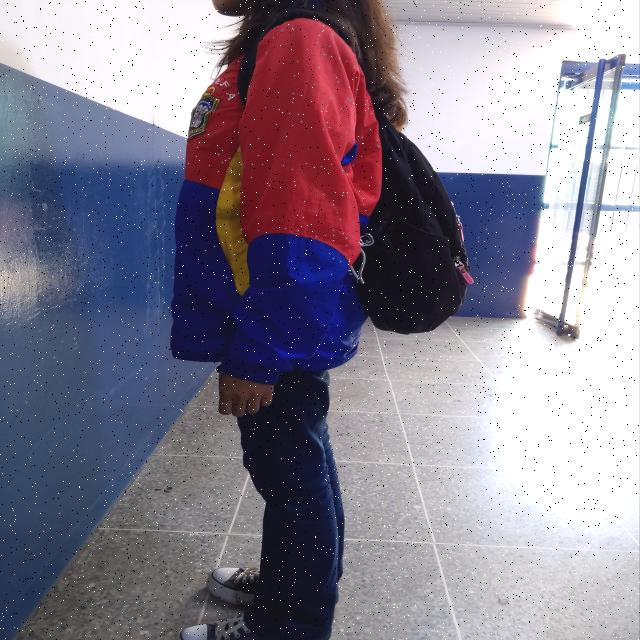chaqueta_unefa: (168, 17, 384, 386)
pantalon_oscuro: (214, 356, 349, 640)
